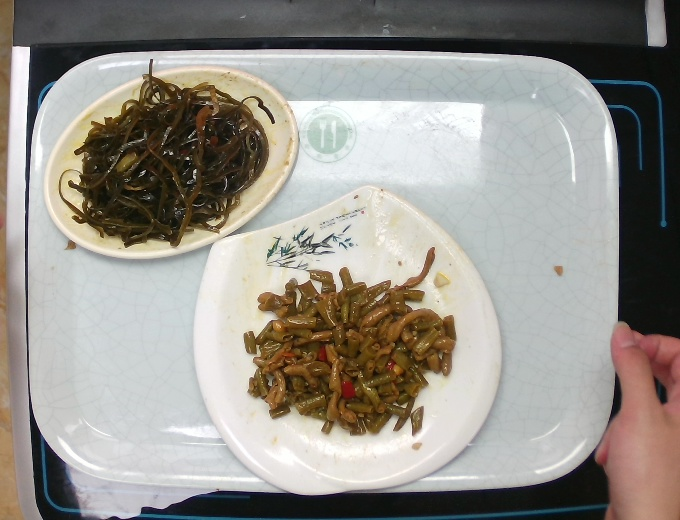JYsf-Mian_Pan: (187, 181, 510, 494)
JYsf-Tuo_Yuan_Wan: (41, 57, 301, 263)
